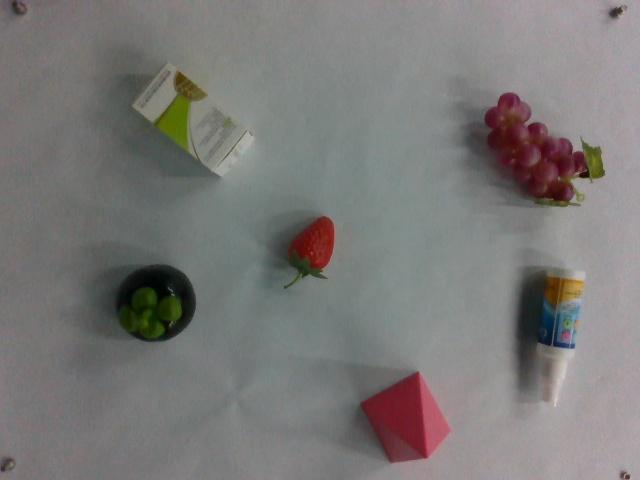carton: (130, 62, 258, 178)
detergent: (532, 262, 587, 409)
grape: (482, 89, 605, 211)
mangosteen: (114, 262, 199, 345)
pyramid: (360, 367, 454, 469)
strawberry: (274, 215, 339, 289)
